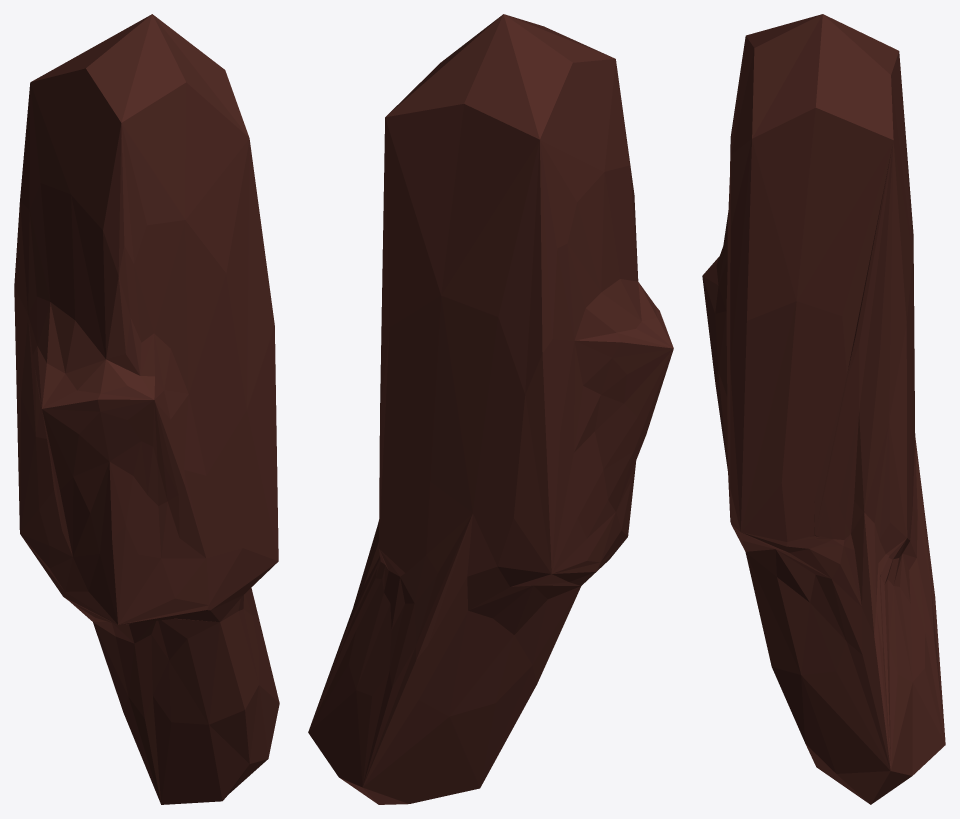
The picture shows the model from 3 angles, left to right: view 1: azimuth 30°, elevation 25°; view 2: azimuth 150°, elevation 25°; view 3: azimuth 270°, elevation 25°; orthographic projection. The views are drawn at different scales.
Parts seen in each view (by area): view 1: 299_Cube.1223; view 2: 299_Cube.1223; view 3: 299_Cube.1223.
Part boxes in pixels (bbox=[...]): 299_Cube.1223: bbox=[14, 14, 279, 804]; 299_Cube.1223: bbox=[308, 14, 673, 804]; 299_Cube.1223: bbox=[702, 14, 945, 804].
Size of the model in its own units: 6.84 by 17.5 by 5.18.
